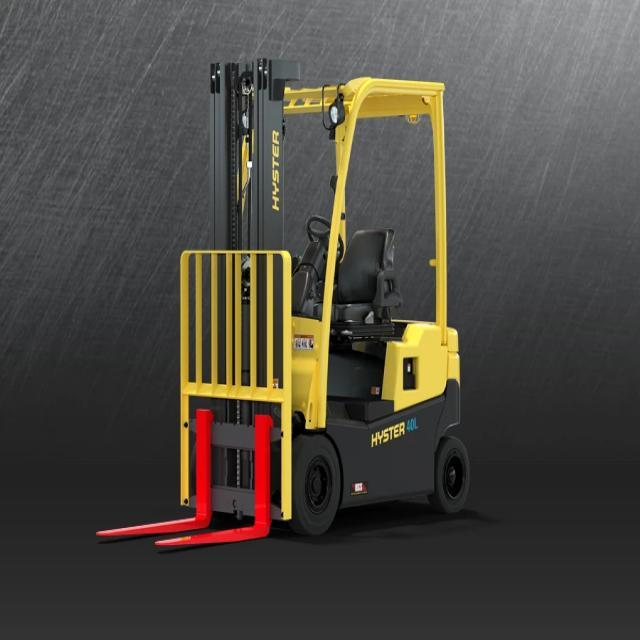forklift: (96, 54, 487, 554)
